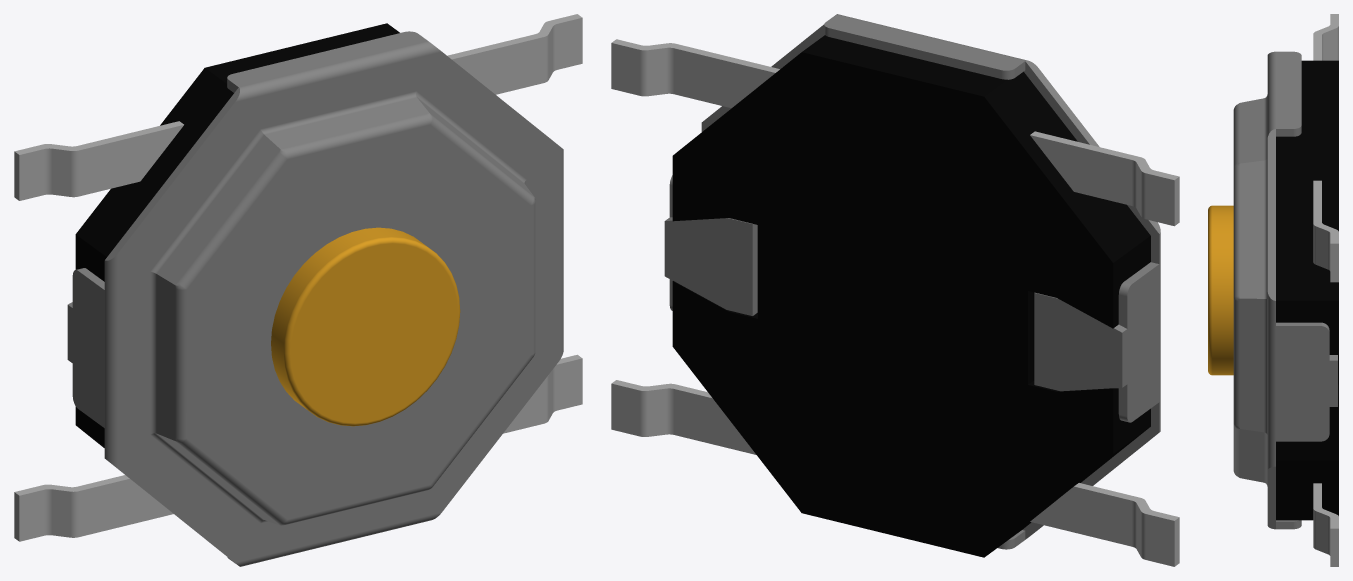
File: SW_SPST_TL3342.glb
The picture shows the model from 3 angles, left to right: view 1: azimuth 30°, elevation 25°; view 2: azimuth 150°, elevation 25°; view 3: azimuth 270°, elevation 25°; orthographic projection. The views are drawn at different scales.
Visible parts, largest first — view 1: SW_SPST_TL3342; view 2: SW_SPST_TL3342; view 3: SW_SPST_TL3342.
Boxes of the visible parts, x1,y1,x2,y2 form: SW_SPST_TL3342: [14, 14, 582, 566]; SW_SPST_TL3342: [611, 14, 1179, 566]; SW_SPST_TL3342: [1208, 14, 1338, 566].
Size of the model in its own units: 0.0064 by 0.0052 by 0.00154.
